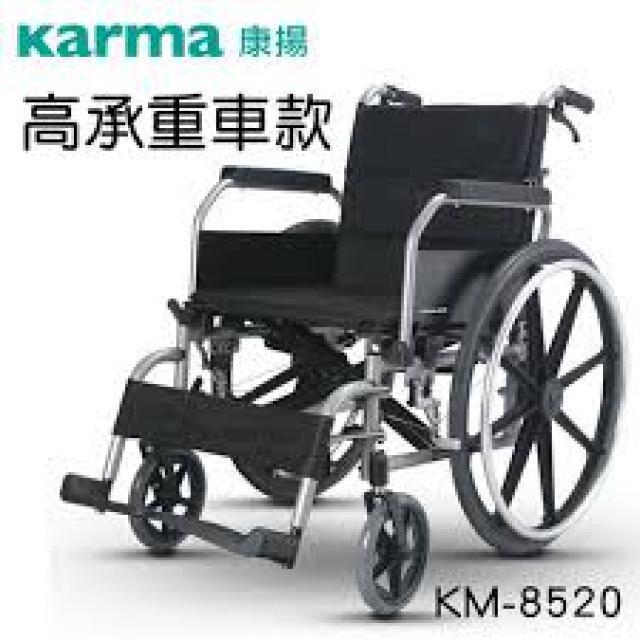wheelchairs: (77, 87, 619, 619)
